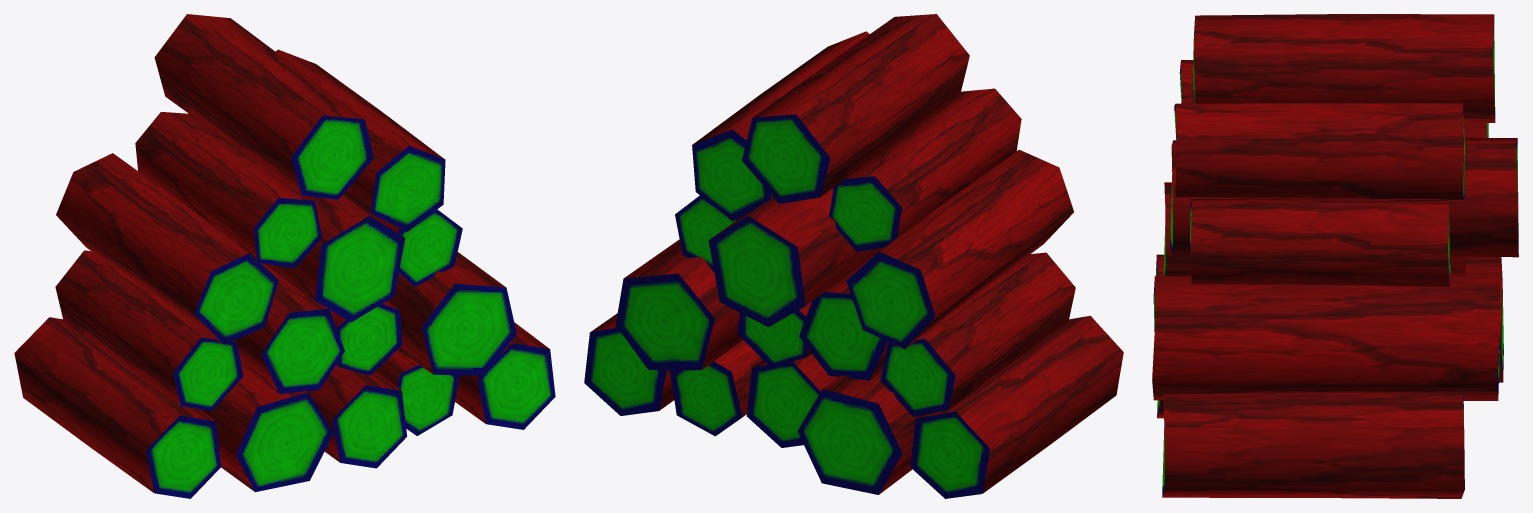
The model's file is FirewoodPile02.fbx.
3 views of the same model, side by side, from view 1: azimuth 30°, elevation 25°; view 2: azimuth 150°, elevation 25°; view 3: azimuth 270°, elevation 25° (orthographic). The views are drawn at different scales.
Parts seen in each view (by area): view 1: FirewoodPile02_LOD0; view 2: FirewoodPile02_LOD0; view 3: FirewoodPile02_LOD0.
Boxes of the visible parts, x1=… form: FirewoodPile02_LOD0: x1=14, y1=14, x2=555, y2=498; FirewoodPile02_LOD0: x1=584, y1=14, x2=1123, y2=498; FirewoodPile02_LOD0: x1=1152, y1=14, x2=1518, y2=498.
Size of what is drawn, in the model's own units: 0.5454 by 0.4558 by 0.3931.
